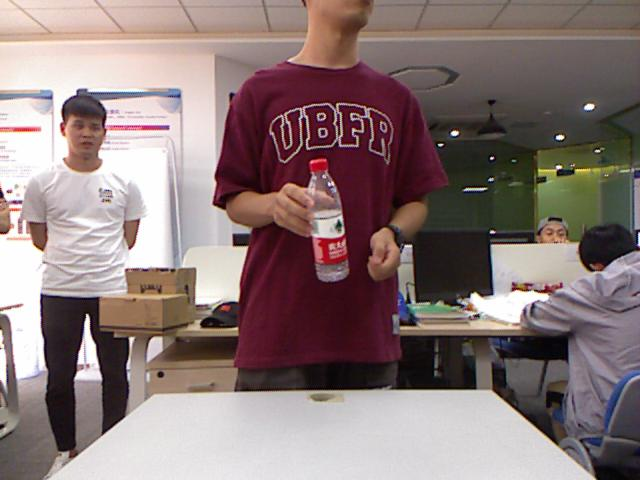cardboard paper: (100, 294, 194, 336), (127, 268, 193, 302)
plastic: (307, 159, 349, 282)
